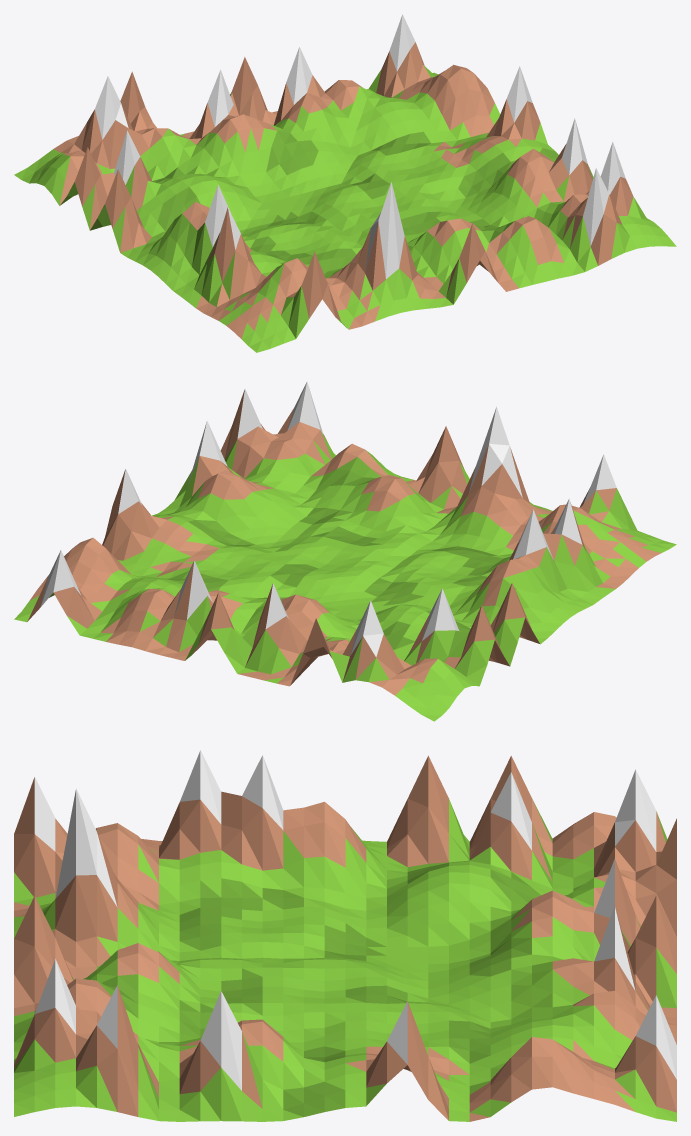
File: land.fbx
3 renders of one model, top to bottom at view 1: azimuth 30°, elevation 25°; view 2: azimuth 150°, elevation 25°; view 3: azimuth 270°, elevation 25°, orthographic. The views are drawn at different scales.
Parts seen in each view (by area): view 1: Plane; view 2: Plane; view 3: Plane.
Part boxes in pixels (<box>): Plane: <box>14,14,676,352</box>; Plane: <box>14,381,676,721</box>; Plane: <box>14,750,676,1121</box>.
Bounding box in the file's own units: 200 × 52.84 × 200.
